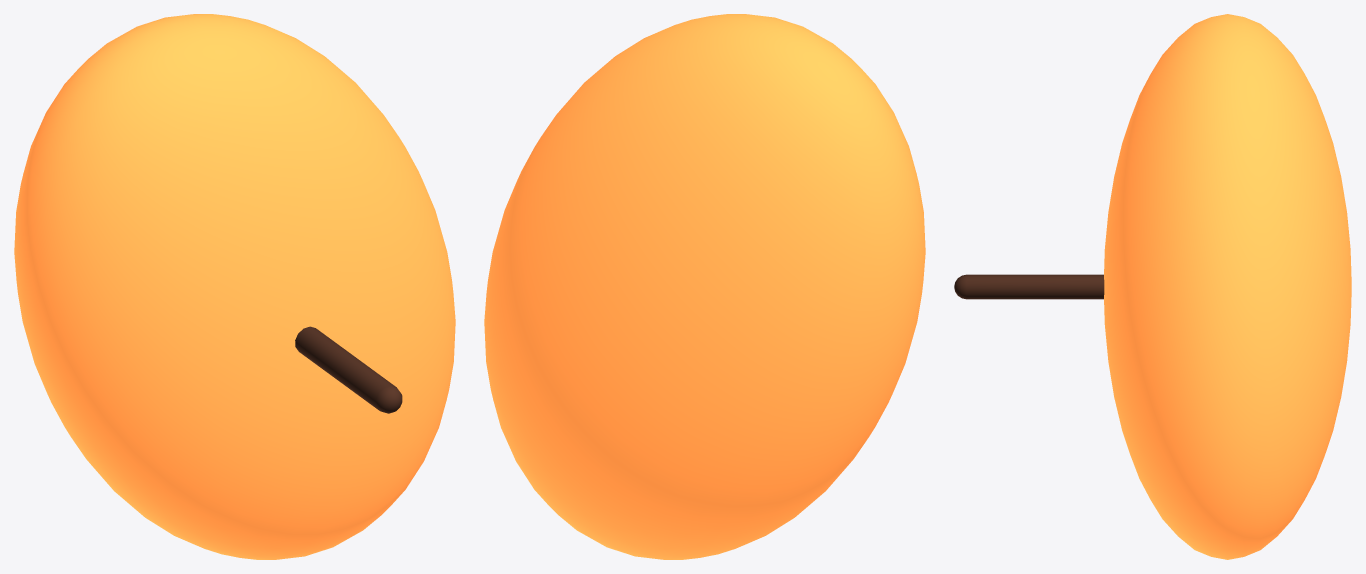
The model's file is coffee-bean.glb.
3 renders of one model, left to right at view 1: azimuth 30°, elevation 25°; view 2: azimuth 150°, elevation 25°; view 3: azimuth 270°, elevation 25°, orthographic. The views are drawn at different scales.
Parts seen in each view (by area): view 1: bean_body, bean_seam; view 2: bean_body; view 3: bean_body, bean_seam.
Part boxes in pixels (x1,y1,x2,y2): bean_body: [14, 14, 455, 559]; bean_seam: [295, 326, 402, 413]; bean_body: [484, 14, 925, 559]; bean_body: [1104, 14, 1351, 559]; bean_seam: [954, 274, 1104, 299].
Size of the model in its own units: 0.8258 by 1.05 by 0.801.
